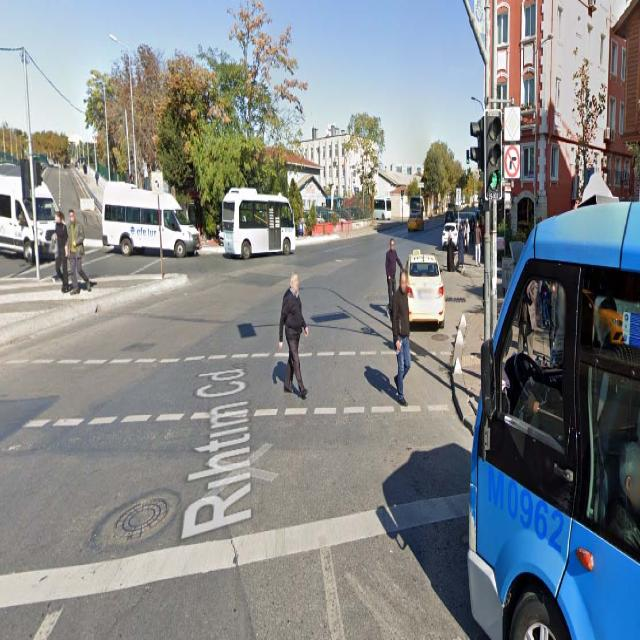sagadonulmez: (505, 143, 519, 179)
yesil: (482, 112, 500, 203)
